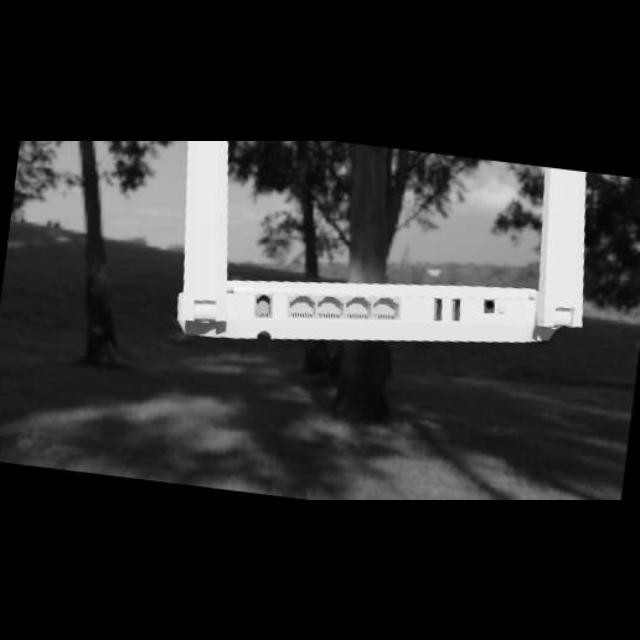Router: (158, 140, 596, 352)
